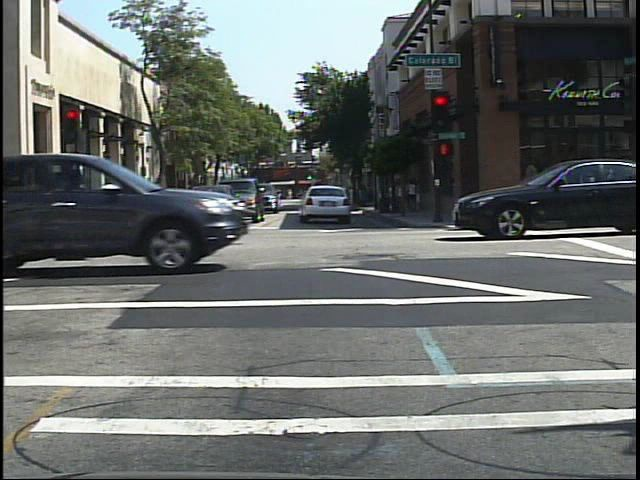person: (159, 180, 177, 216), (90, 188, 104, 229), (138, 182, 157, 212)
